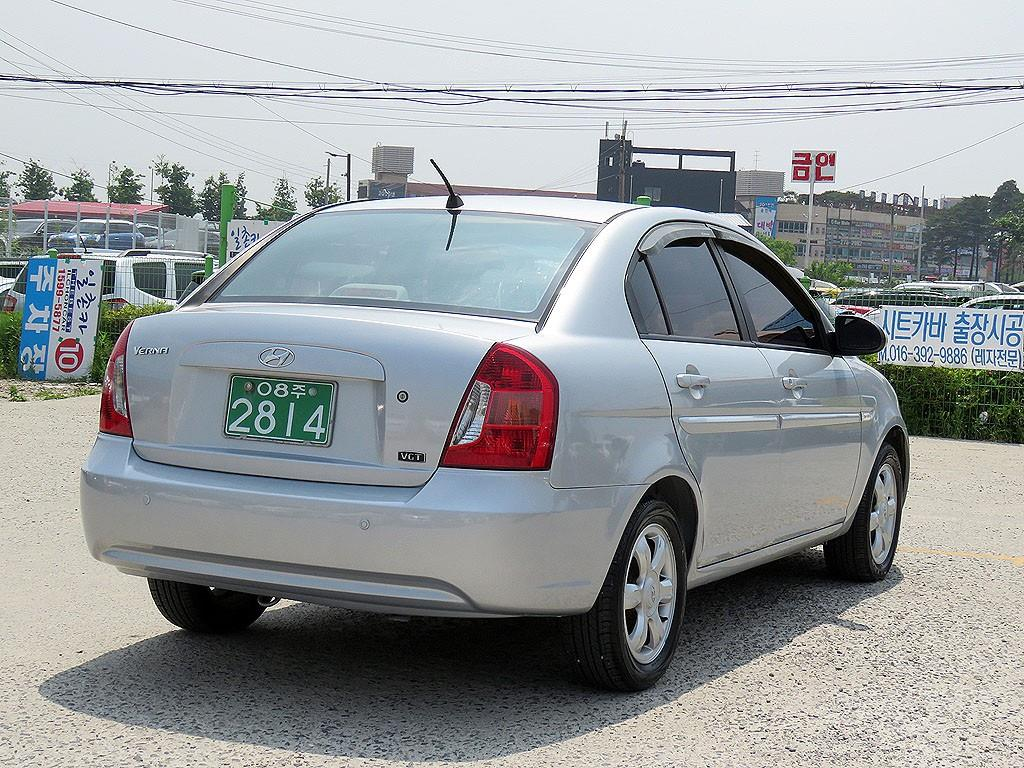plate: (225, 376, 333, 443)
